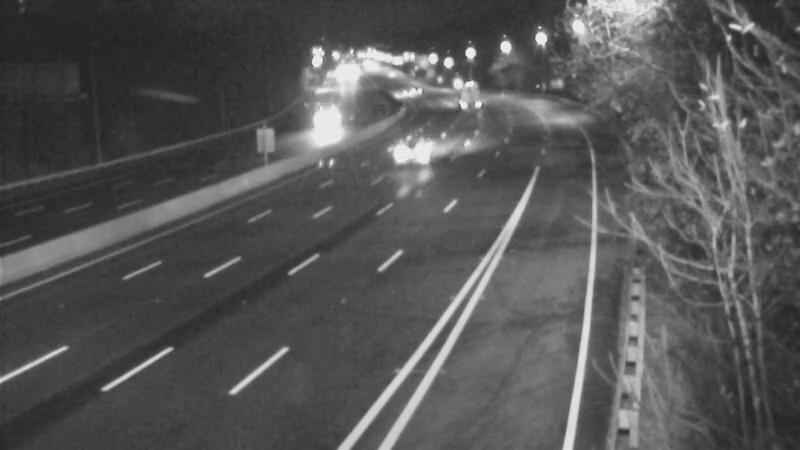vehicle: (367, 114, 447, 194), (395, 66, 445, 116), (374, 68, 424, 118), (434, 67, 484, 117), (300, 98, 350, 148)
